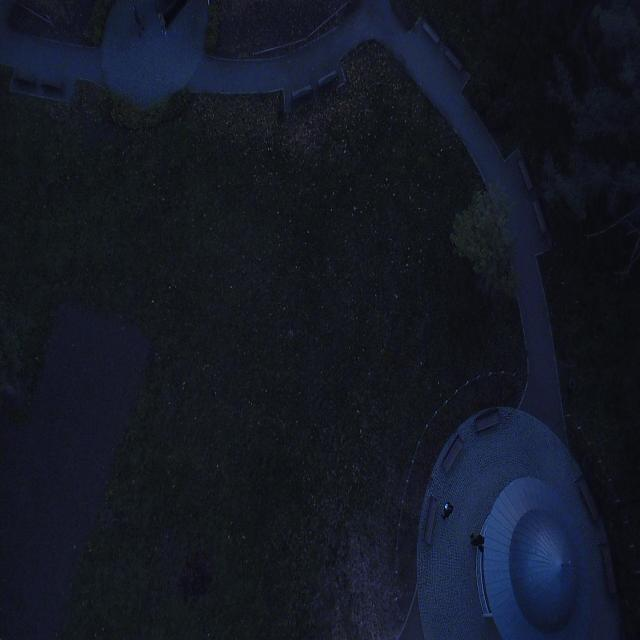p3rson: (133, 5, 144, 38), (470, 532, 484, 552), (157, 13, 167, 35), (441, 501, 453, 519)
